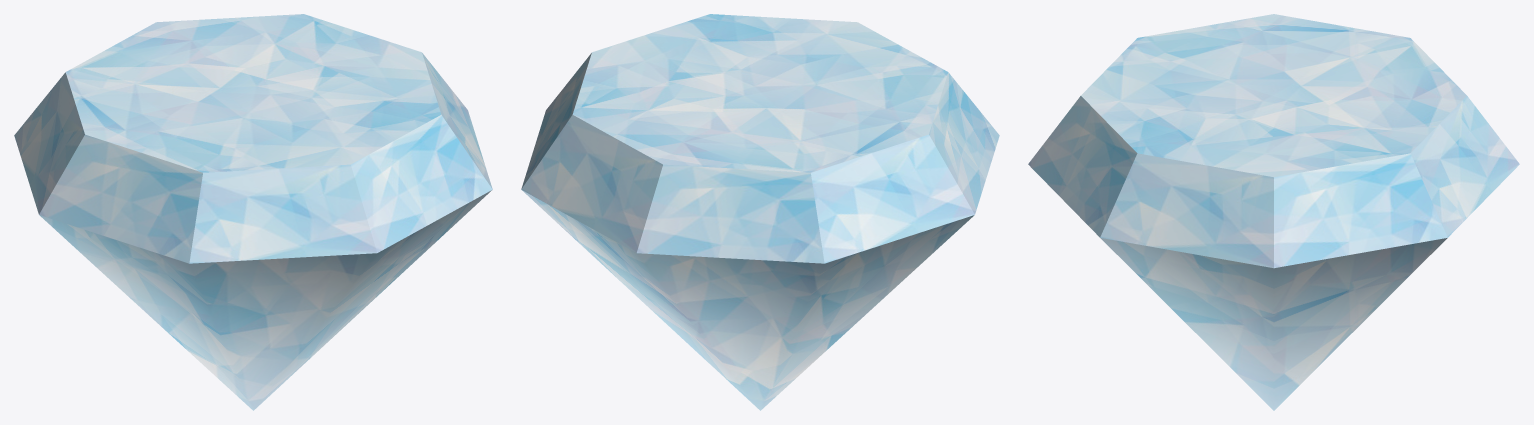
The model's file is diamond.FBX.
3 views of the same model, side by side, from view 1: azimuth 30°, elevation 25°; view 2: azimuth 150°, elevation 25°; view 3: azimuth 270°, elevation 25° (orthographic).
Visible parts, largest first — view 1: Cylinder001; view 2: Cylinder001; view 3: Cylinder001.
Part boxes in pixels (box(x1,y1,x2,y2)): Cylinder001: box(14, 14, 492, 410); Cylinder001: box(521, 14, 999, 410); Cylinder001: box(1028, 14, 1519, 410).
Bounding box in the file's own units: 43.6 × 30.84 × 43.6.
1 material, 1 textured.
